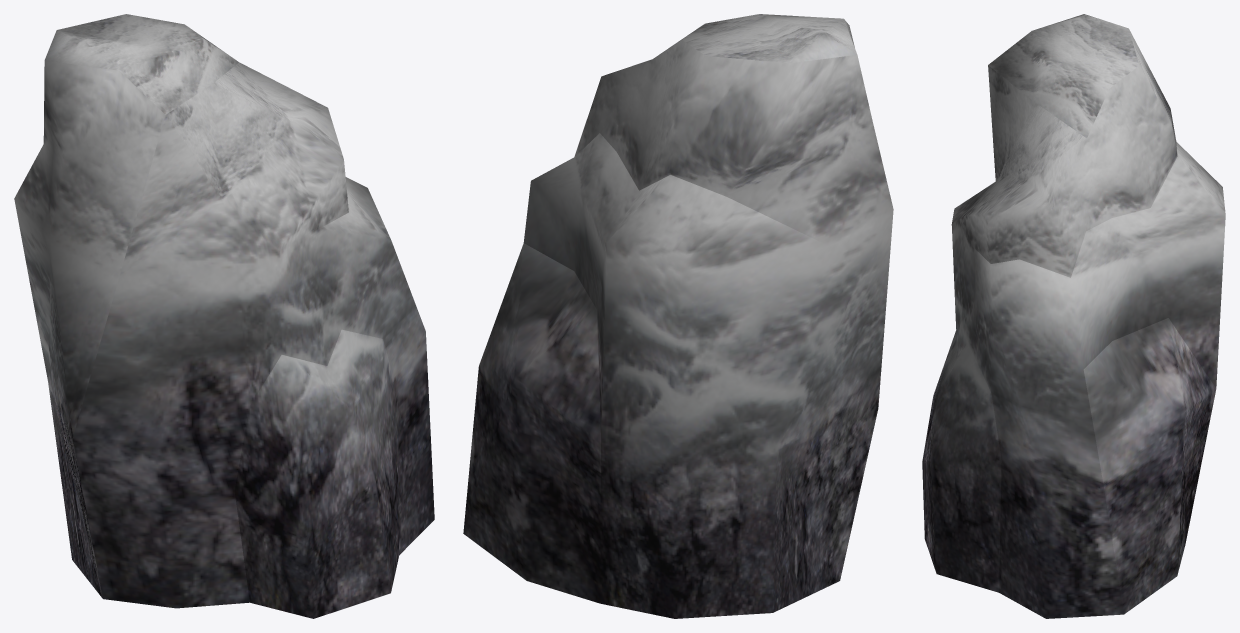
Rendered from snow_d_a02d.fbx.
3 renders of one model, left to right at view 1: azimuth 30°, elevation 25°; view 2: azimuth 150°, elevation 25°; view 3: azimuth 270°, elevation 25°, orthographic. The views are drawn at different scales.
Parts seen in each view (by area): view 1: d_a02d; view 2: d_a02d; view 3: d_a02d.
Boxes of the visible parts, box(x1,y1,x2,y2) form: d_a02d: box(14, 14, 434, 618); d_a02d: box(463, 14, 893, 618); d_a02d: box(922, 14, 1225, 618).
Size of the model in its own units: 434 by 592 by 351.
